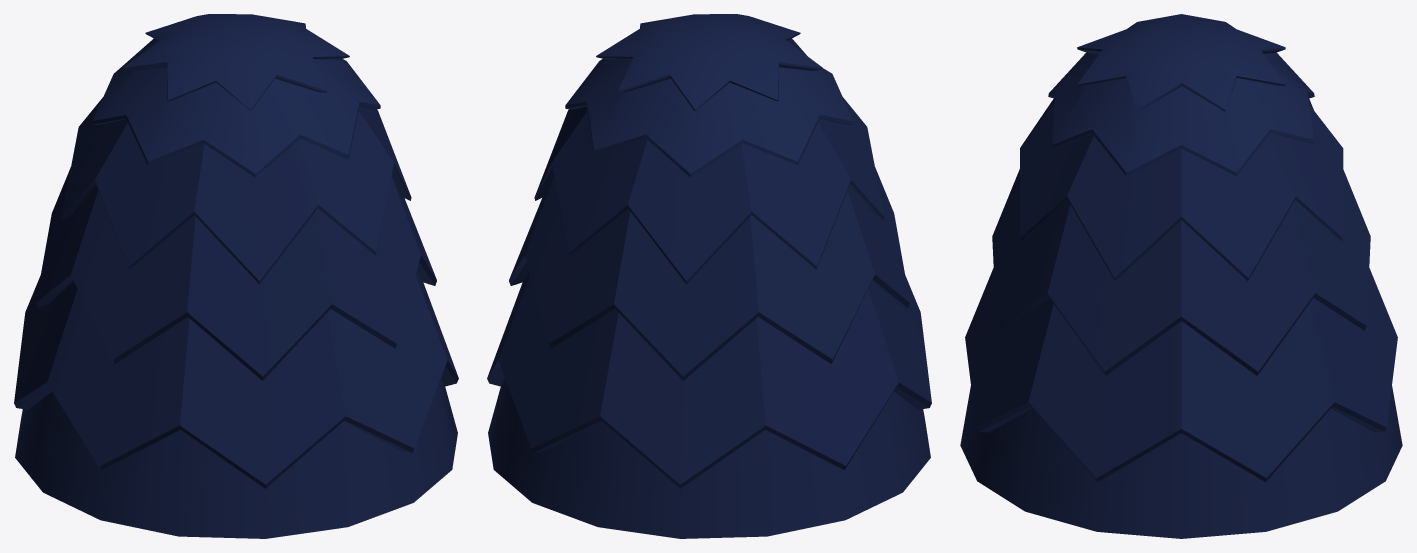
Rendered from SM_shrub_03.fbx.
3 views of the same model, side by side, from view 1: azimuth 30°, elevation 25°; view 2: azimuth 150°, elevation 25°; view 3: azimuth 270°, elevation 25° (orthographic).
Visible parts, largest first — view 1: Shrub_Blockout; view 2: Shrub_Blockout; view 3: Shrub_Blockout.
Boxes of the visible parts, x1,y1,x2,y2 form: Shrub_Blockout: (14,14,458,538); Shrub_Blockout: (487,14,931,538); Shrub_Blockout: (960,14,1402,538).
Size of the model in its own units: 71.2 by 73.23 by 71.2.
